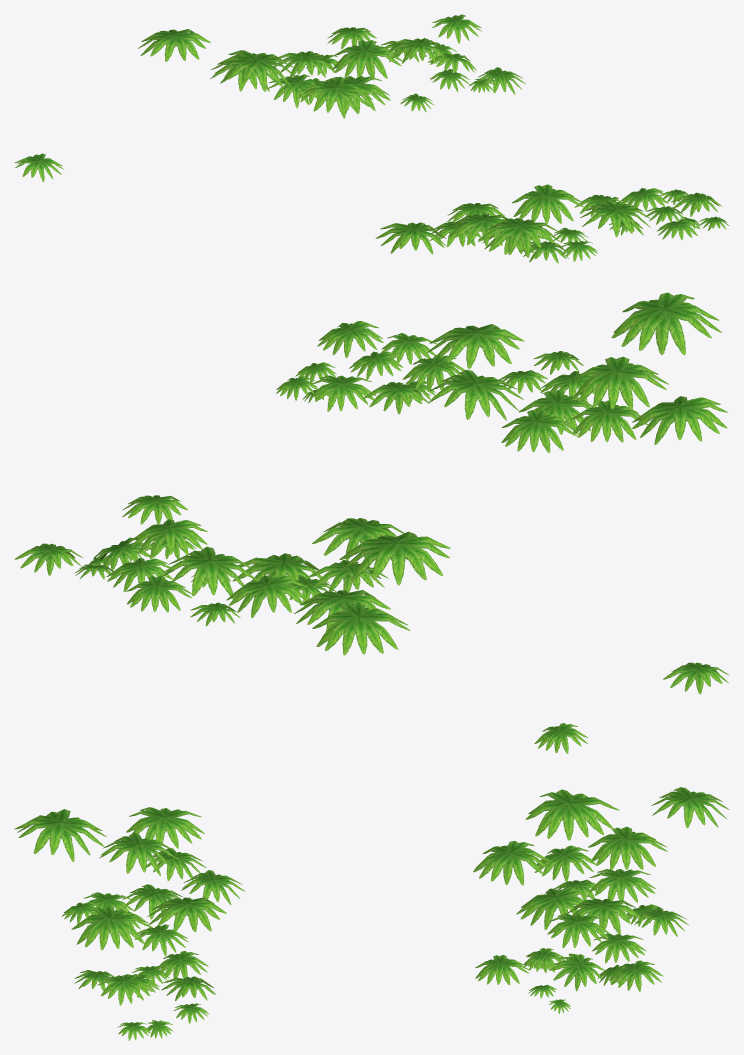
Rendered from PalmCrownsShape.dae.
The picture shows the model from 3 angles, top to bottom: view 1: azimuth 30°, elevation 25°; view 2: azimuth 150°, elevation 25°; view 3: azimuth 270°, elevation 25°; orthographic projection. The views are drawn at different scales.
Parts seen in each view (by area): view 1: PalmCrowns; view 2: PalmCrowns; view 3: PalmCrowns.
Boxes of the visible parts, box(x1,y1,x2,y2) form: PalmCrowns: box(14, 14, 728, 263); PalmCrowns: box(14, 292, 729, 694); PalmCrowns: box(14, 723, 729, 1040).
Size of the model in its own units: 156 by 26.96 by 171.
